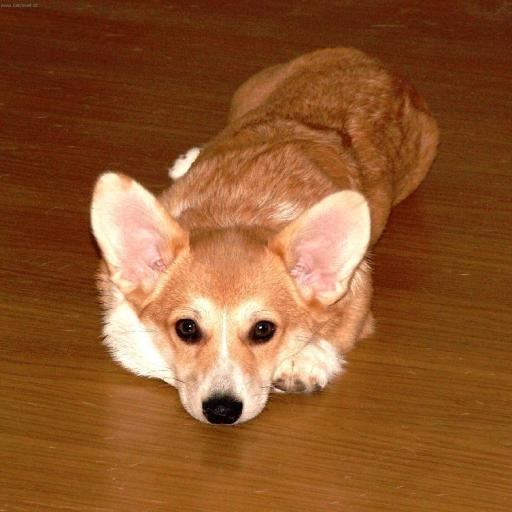dog_face: (90, 167, 382, 422)
